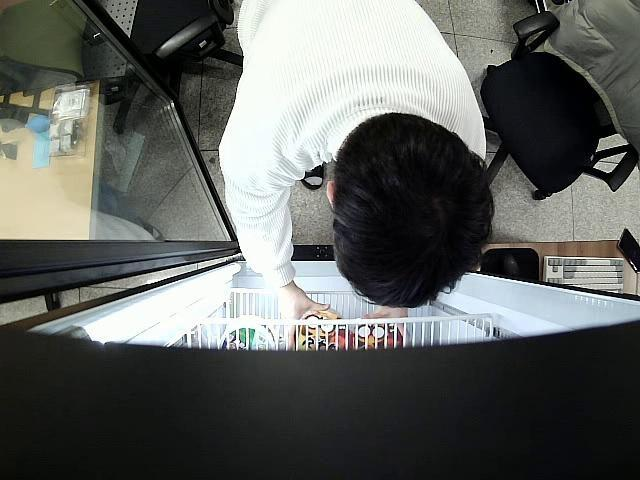05_nuguri_L: (292, 304, 351, 352), (355, 322, 403, 348)
